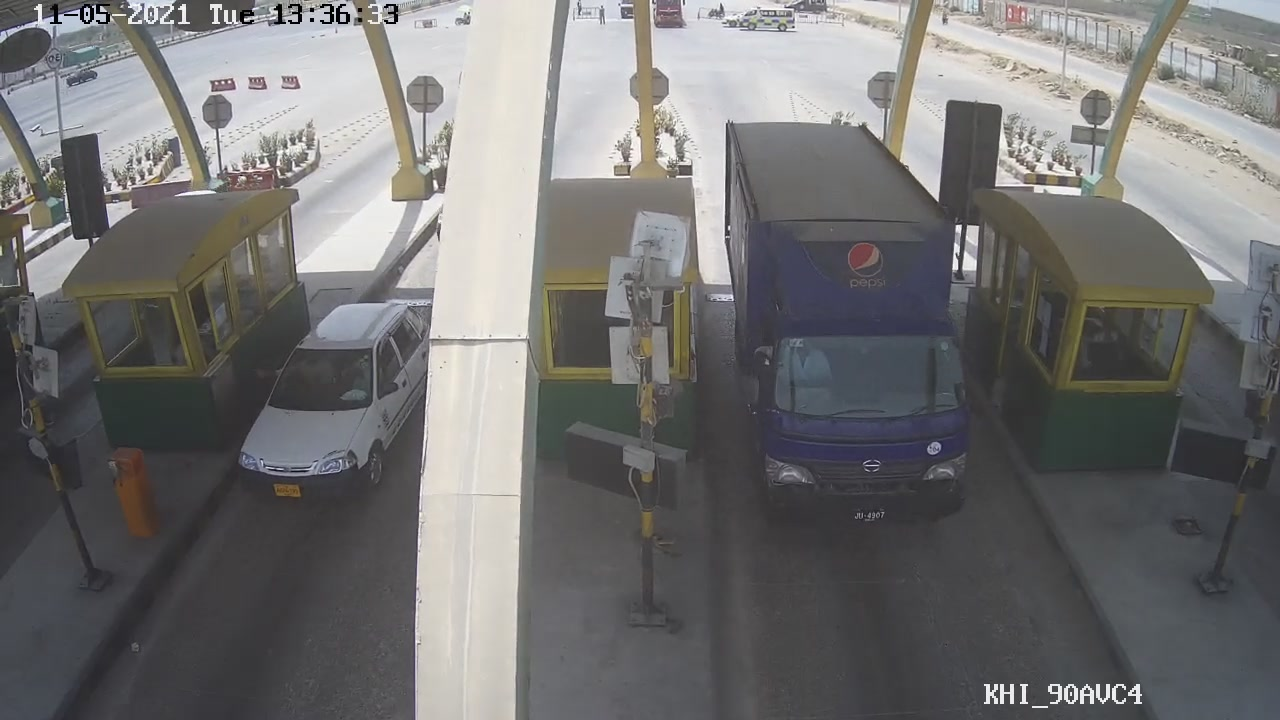F5: (714, 115, 968, 532)
